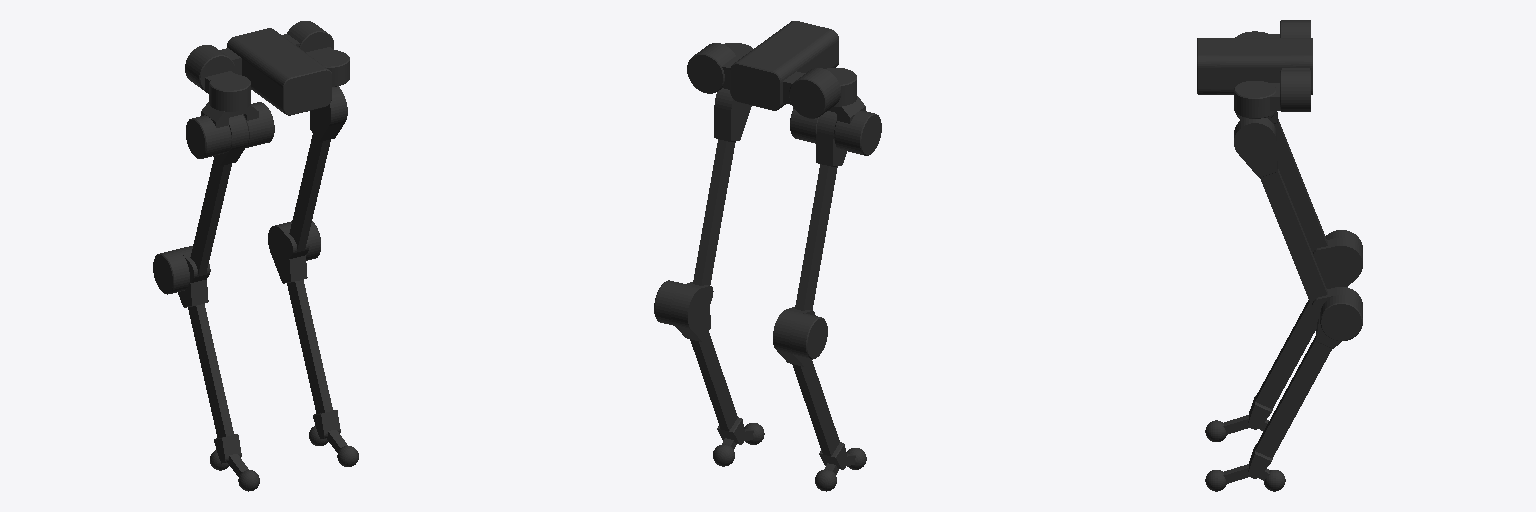
The robot description file, URDF, robot "biped":
<?xml version="1.0"?>
<!-- created with Phobos 0.7 -->
  <robot name="biped">
      <material name = "black">
          <color rgba="0.25 0.25 0.25 1.0"/>
      </material>
    <link name="l_ab_ad">
      <inertial>
        <origin xyz="0 0 0" rpy="0 0 0"/>
        <mass value="0.8"/>
        <inertia ixx="0.001" ixy="0" ixz="0" iyy="0.001" iyz="0" izz="0.001"/>
      </inertial>
      <visual name="l_yaw_motor">
        <origin xyz="0 0 -0.04328" rpy="0 0 0"/>
        <geometry>
          <mesh filename="meshes/V2Mockup.009.stl" scale="0.1 0.1 0.1"/>
        </geometry>
        <material name="black"/>

      </visual>
      <collision name="l_yaw_motor">
          <origin xyz="0 0 -0.04328" rpy="0 0 0"/>
          <geometry>
              <mesh filename="meshes/V2Mockup.009.stl" scale="0.1 0.1 0.1"/>
          </geometry>
          
      </collision>
    </link>

    <link name="l_foot">
      <inertial>
        <origin xyz="0 0 0" rpy="0 0 0"/>
        <mass value="0.1"/>
        <inertia ixx="0.001" ixy="0" ixz="0" iyy="0.001" iyz="0" izz="0.001"/>
      </inertial>
      <visual name="l_foot_mesh">
        <origin xyz="0.00032 -0.02422 -0.0314" rpy="0 0 0"/>
        <geometry>
          <mesh filename="meshes/V2Mockup.003.stl" scale="0.1 0.1 0.1"/>
        </geometry>
        <material name="black"/>

      </visual>
      <collision name="l_foot_mesh">
          <origin xyz="0.00032 -0.02422 -0.0314" rpy="0 0 0"/>
          <geometry>
              <mesh filename="meshes/V2Mockup.003.stl" scale="0.1 0.1 0.1"/>
          </geometry>
          
      </collision>
    </link>

    <link name="l_lower">
      <inertial>
        <origin xyz="0 0 0" rpy="0 0 0"/>
        <mass value="1.0"/>
        <inertia ixx="0.001" ixy="0" ixz="0" iyy="0.001" iyz="0" izz="0.001"/>
      </inertial>
      <visual name="l_leg_lower">
        <origin xyz="0 -0.01638 -0.14422" rpy="0 0 0"/>
        <geometry>
          <mesh filename="meshes/V2Mockup.001.stl" scale="0.1 0.1 0.1"/>
        </geometry>
        <material name="black"/>

      </visual>
      <collision name="l_leg_lower">
          <origin xyz="0 -0.01638 -0.14422" rpy="0 0 0"/>
          <geometry>
              <mesh filename="meshes/V2Mockup.001.stl" scale="0.1 0.1 0.1"/>
          </geometry>
          
      </collision>
    </link>

    <link name="l_upper">
      <inertial>
        <origin xyz="0 0 0" rpy="0 0 0"/>
        <mass value="0.2"/>
        <inertia ixx="0.001" ixy="0" ixz="0" iyy="0.001" iyz="0" izz="0.001"/>
      </inertial>
      <visual name="l_leg_upper">
        <origin xyz="0 0.04702 -0.13046" rpy="0 0 0"/>
        <geometry>
          <mesh filename="meshes/V2Mockup.005.stl" scale="0.1 0.1 0.1"/>
        </geometry>
        <material name="black"/>

      </visual>
      <collision name="l_leg_upper">
          <origin xyz="0 0.04702 -0.13046" rpy="0 0 0"/>
          <geometry>
              <mesh filename="meshes/V2Mockup.005.stl" scale="0.1 0.1 0.1"/>
          </geometry>
          
      </collision>
    </link>

    <link name="l_yaw">
      <inertial>
        <origin xyz="0 0 0" rpy="0 0 0"/>
        <mass value="2.0"/>
        <inertia ixx="0.001" ixy="0" ixz="0" iyy="0.001" iyz="0" izz="0.001"/>
      </inertial>
      <visual name="l_hip">
        <origin xyz="0 0 0" rpy="0 0 0"/>
        <geometry>
          <mesh filename="meshes/V2Mockup.007.stl" scale="0.1 0.1 0.1"/>
        </geometry>
        <material name="black"/>

      </visual>
      <collision name="l_hip">
          <origin xyz="0 0 0" rpy="0 0 0"/>
          <geometry>
              <mesh filename="meshes/V2Mockup.007.stl" scale="0.1 0.1 0.1"/>
          </geometry>

      </collision>
    </link>

    <link name="r_ab_ad">
      <inertial>
        <origin xyz="0 0 0" rpy="0 0 0"/>
        <mass value="0.8"/>
        <inertia ixx="0.001" ixy="0" ixz="0" iyy="0.001" iyz="0" izz="0.001"/>
      </inertial>
      <visual name="r_yaw_motor">
        <origin xyz="0 0 -0.03098" rpy="0 0 0"/>
        <geometry>
          <mesh filename="meshes/V2Mockup.010.stl" scale="0.1 0.1 0.1"/>
        </geometry>
        <material name="black"/>

      </visual>
      <collision name="r_yaw_motor">
          <origin xyz="0 0 -0.03098" rpy="0 0 0"/>
          <geometry>
              <mesh filename="meshes/V2Mockup.010.stl" scale="0.1 0.1 0.1"/>
          </geometry>

      </collision>
    </link>

    <link name="r_foot">
      <inertial>
        <origin xyz="0 0 0" rpy="0 0 0"/>
        <mass value="0.1"/>
        <inertia ixx="0.001" ixy="0" ixz="0" iyy="0.001" iyz="0" izz="0.001"/>
      </inertial>
      <visual name="r_foot_mesh">
        <origin xyz="0.00039 -0.02422 -0.0314" rpy="0 0 0"/>
        <geometry>
          <mesh filename="meshes/V2Mockup.004.stl" scale="0.1 0.1 0.1"/>
        </geometry>
        <material name="black"/>

      </visual>
      <collision name="r_foot_mesh">
          <origin xyz="0.00039 -0.02422 -0.0314" rpy="0 0 0"/>
          <geometry>
              <mesh filename="meshes/V2Mockup.004.stl" scale="0.1 0.1 0.1"/>
          </geometry>
          
      </collision>
    </link>

    <link name="r_lower">
      <inertial>
        <origin xyz="0 0 0" rpy="0 0 0"/>
        <mass value="1.0"/>
        <inertia ixx="0.001" ixy="0" ixz="0" iyy="0.001" iyz="0" izz="0.001"/>
      </inertial>
      <visual name="r_leg_lower">
        <origin xyz="0 -0.01638 -0.14422" rpy="0 0 0"/>
        <geometry>
          <mesh filename="meshes/V2Mockup.002.stl" scale="0.1 0.1 0.1"/>
        </geometry>
        <material name="black"/>

      </visual>
      <collision name="r_leg_lower">
          <origin xyz="0 -0.01638 -0.14422" rpy="0 0 0"/>
          <geometry>
              <mesh filename="meshes/V2Mockup.002.stl" scale="0.1 0.1 0.1"/>
          </geometry>
          
      </collision>
    </link>

    <link name="r_upper">
      <inertial>
        <origin xyz="0 0 0" rpy="0 0 0"/>
        <mass value="0.2"/>
        <inertia ixx="0.001" ixy="0" ixz="0" iyy="0.001" iyz="0" izz="0.001"/>
      </inertial>
      <visual name="r_leg_upper">
        <origin xyz="0 0.04702 -0.13046" rpy="0 0 0"/>
        <geometry>
          <mesh filename="meshes/V2Mockup.006.stl" scale="0.1 0.1 0.1"/>
        </geometry>
        <material name="black"/>

      </visual>
      <collision name="r_leg_upper">
          <origin xyz="0 0.04702 -0.13046" rpy="0 0 0"/>
          <geometry>
              <mesh filename="meshes/V2Mockup.006.stl" scale="0.1 0.1 0.1"/>
          </geometry>
          
      </collision>
    </link>

    <link name="r_yaw">
      <inertial>
        <origin xyz="0 0 0" rpy="0 0 0"/>
        <mass value="2.0"/>
        <inertia ixx="0.001" ixy="0" ixz="0" iyy="0.001" iyz="0" izz="0.001"/>
      </inertial>
      <visual name="r_hip">
        <origin xyz="0 0 0" rpy="0 0 0"/>
        <geometry>
          <mesh filename="meshes/V2Mockup.013.stl" scale="0.1 0.1 0.1"/>
        </geometry>
        <material name="black"/>

      </visual>
      <collision name="r_hip">
          <origin xyz="0 0 0" rpy="0 0 0"/>
          <geometry>
              <mesh filename="meshes/V2Mockup.013.stl" scale="0.1 0.1 0.1"/>
          </geometry>
          
      </collision>
    </link>

    <link name="torso">
      <inertial>
        <origin xyz="0 0 0" rpy="0 0 0"/>
        <mass value="5.0"/>
        <inertia ixx="0.001" ixy="0" ixz="0" iyy="0.001" iyz="0" izz="0.001"/>
      </inertial>
      <visual name="torso_mesh">
        <origin xyz="0 0.07151 0" rpy="0 0 0"/>
        <geometry>
          <mesh filename="meshes/V2Mockup.stl" scale="0.1 0.1 0.1"/>
        </geometry>
        <material name="black"/>

      </visual>
      <collision name="torso_mesh">
          <origin xyz="0 0.07151 0" rpy="0 0 0"/>
          <geometry>
              <mesh filename="meshes/V2Mockup.stl" scale="0.1 0.1 0.1"/>
          </geometry>
          
      </collision>
    </link>

    <joint name="l_ab_ad" type="revolute">
      <origin xyz="0.15 0 0" rpy="0 0 0"/>
      <parent link="torso"/>
      <child link="l_ab_ad"/>
      <axis xyz="0 -1.0 0"/>
      <limit lower="-0.17453" upper="1.309" effort="0" velocity="0"/>
    </joint>

    <joint name="l_foot" type="revolute">
      <origin xyz="0 -0.17 -0.47" rpy="0 0 0"/>
      <parent link="l_lower"/>
      <child link="l_foot"/>
      <axis xyz="1.0 0 0"/>
      <limit lower="-1.5708" upper="0.69813" effort="0" velocity="0"/>
    </joint>

    <joint name="l_lower" type="revolute">
      <origin xyz="0 0.17 -0.47" rpy="0 0 0"/>
      <parent link="l_upper"/>
      <child link="l_lower"/>
      <axis xyz="1.0 0 0"/>
      <limit lower="-2.0944" upper="0.34907" effort="0" velocity="0"/>
    </joint>

    <joint name="l_upper" type="revolute">
      <origin xyz="0 0 0" rpy="0 0 0"/>
      <parent link="l_yaw"/>
      <child link="l_upper"/>
      <axis xyz="1.0 0 0"/>
      <limit lower="-1.91986" upper="1.22173" effort="0" velocity="0"/>
    </joint>

    <joint name="l_yaw" type="revolute">
      <origin xyz="0 0 -0.135" rpy="0 0 0"/>
      <parent link="l_ab_ad"/>
      <child link="l_yaw"/>
      <axis xyz="0 0 1.0"/>
      <limit lower="-0.7854" upper="0.7854" effort="0" velocity="0"/>
    </joint>

    <joint name="r_ab_ad" type="revolute">
      <origin xyz="-0.15 0 0" rpy="0 0 0"/>
      <parent link="torso"/>
      <child link="r_ab_ad"/>
      <axis xyz="0 -1.0 0"/>
      <limit lower="-1.309" upper="0.17453" effort="0" velocity="0"/>
    </joint>

    <joint name="r_foot" type="revolute">
      <origin xyz="0 -0.17 -0.47" rpy="0 0 0"/>
      <parent link="r_lower"/>
      <child link="r_foot"/>
      <axis xyz="1.0 0 0"/>
      <limit lower="-1.5708" upper="0.69813" effort="0" velocity="0"/>
    </joint>

    <joint name="r_lower" type="revolute">
      <origin xyz="0 0.17 -0.47" rpy="0 0 0"/>
      <parent link="r_upper"/>
      <child link="r_lower"/>
      <axis xyz="1.0 0 0"/>
      <limit lower="-2.0944" upper="0.34907" effort="0" velocity="0"/>
    </joint>

    <joint name="r_upper" type="revolute">
      <origin xyz="0 0 0" rpy="0 0 0"/>
      <parent link="r_yaw"/>
      <child link="r_upper"/>
      <axis xyz="1.0 0 0"/>
      <limit lower="-1.91986" upper="1.22173" effort="0" velocity="0"/>
    </joint>

    <joint name="r_yaw" type="revolute">
      <origin xyz="0 0 -0.135" rpy="0 0 0"/>
      <parent link="r_ab_ad"/>
      <child link="r_yaw"/>
      <axis xyz="0 0 1.0"/>
      <limit lower="-0.7854" upper="0.7854" effort="0" velocity="0"/>
    </joint>

  </robot>

--- Render facts (derived) ---
Views: 3 orthographic renders of the robot side by side, from view 1: azimuth 30°, elevation 25°; view 2: azimuth 150°, elevation 25°; view 3: azimuth 270°, elevation 25°.
Model biped with 11 links and 10 joints (10 revolute), rooted at torso, posed every joint at zero.
Links seen in each view (by area): view 1: torso, r_lower, l_lower, l_upper, r_yaw, r_upper, r_ab_ad, l_ab_ad, r_foot, l_foot; view 2: torso, l_lower, r_lower, l_upper, r_upper, r_yaw, l_foot, r_foot, r_ab_ad; view 3: torso, l_lower, r_lower, l_upper, r_upper, l_ab_ad, l_foot, r_foot.
Link boxes in pixels (bbox=[...]): torso: bbox=[185, 21, 333, 115]; r_lower: bbox=[153, 246, 241, 462]; l_lower: bbox=[268, 221, 340, 438]; l_upper: bbox=[289, 86, 347, 251]; r_yaw: bbox=[186, 102, 274, 158]; r_upper: bbox=[190, 114, 248, 275]; r_ab_ad: bbox=[205, 71, 250, 111]; l_ab_ad: bbox=[306, 47, 349, 86]; r_foot: bbox=[210, 450, 259, 491]; l_foot: bbox=[309, 426, 358, 466]; torso: bbox=[687, 21, 840, 118]; l_lower: bbox=[654, 280, 745, 444]; r_lower: bbox=[773, 307, 847, 469]; l_upper: bbox=[693, 88, 751, 285]; r_upper: bbox=[795, 111, 846, 310]; r_yaw: bbox=[790, 96, 881, 155]; l_foot: bbox=[713, 423, 764, 466]; r_foot: bbox=[815, 448, 866, 491]; r_ab_ad: bbox=[826, 68, 856, 106]; torso: bbox=[1197, 20, 1312, 111]; l_lower: bbox=[1248, 287, 1362, 478]; r_lower: bbox=[1248, 230, 1362, 429]; l_upper: bbox=[1234, 118, 1327, 305]; r_upper: bbox=[1270, 111, 1327, 252]; l_ab_ad: bbox=[1234, 81, 1279, 118]; l_foot: bbox=[1205, 464, 1285, 491]; r_foot: bbox=[1205, 415, 1268, 441].
Size in the robot's own frame: 0.48 by 0.4277 by 1.19 metres.
10 mesh visuals loaded from 11 distinct referenced files (10 binary STL); not drawn: 1 (reference not matched to a file when rendering).